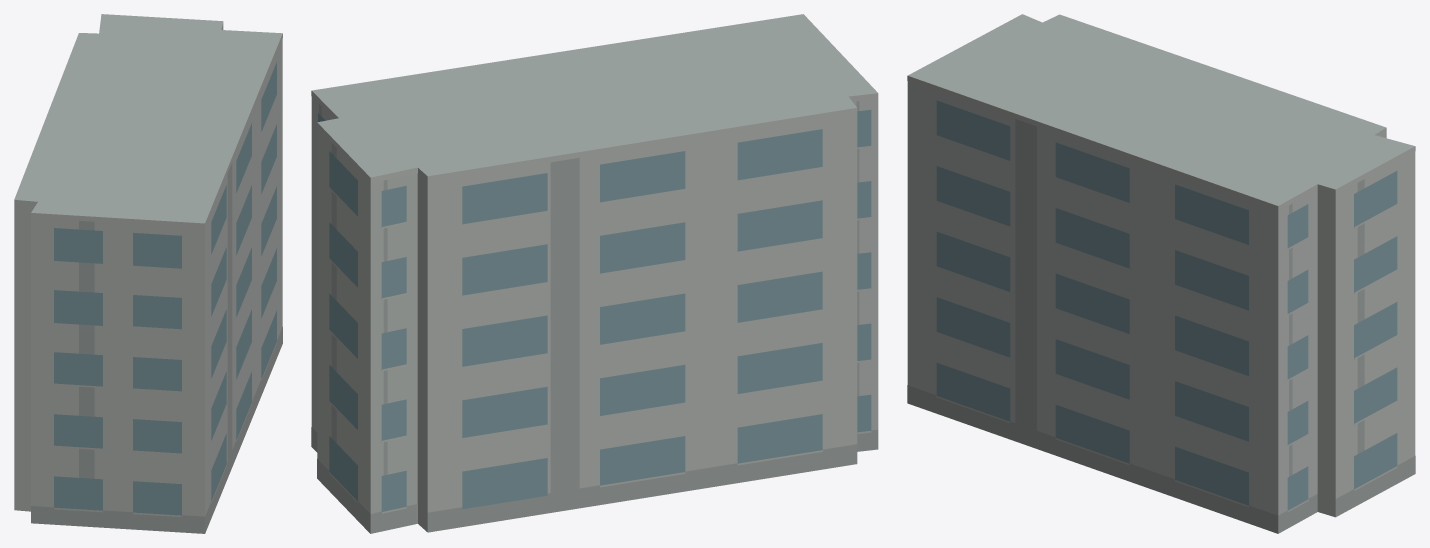
Rendered from survey-upis-32890338.glb.
3 views of the same model, side by side, from view 1: azimuth 30°, elevation 25°; view 2: azimuth 150°, elevation 25°; view 3: azimuth 270°, elevation 25° (orthographic). The views are drawn at different scales.
Parts seen in each view (by area): view 1: survey-upis-32890338.tmp; view 2: survey-upis-32890338.tmp; view 3: survey-upis-32890338.tmp.
Boxes of the visible parts, bbox=[...] form: survey-upis-32890338.tmp: bbox=[14, 14, 282, 533]; survey-upis-32890338.tmp: bbox=[311, 14, 878, 533]; survey-upis-32890338.tmp: bbox=[907, 14, 1415, 533].
Size of the model in its own units: 19.18 by 15.25 by 21.42.
